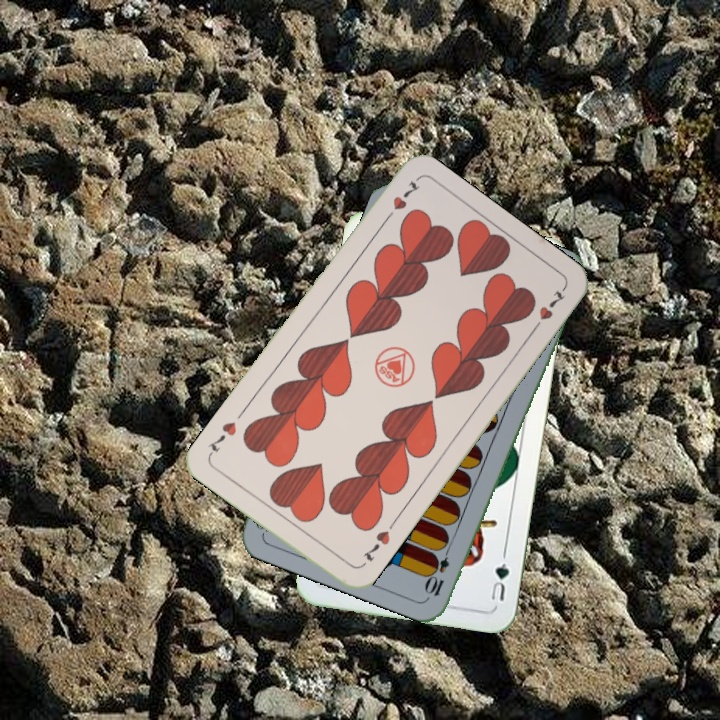E10: (423, 540, 454, 599)
GU: (486, 559, 512, 605)
H7: (379, 175, 423, 226), (358, 526, 393, 564)
